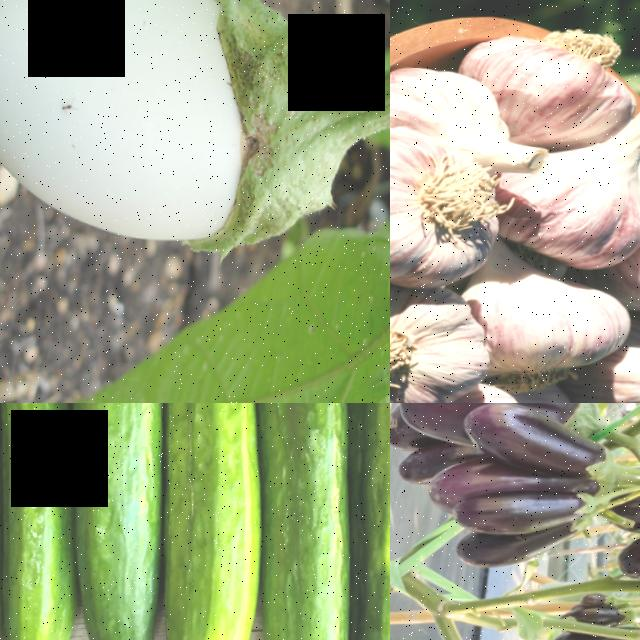cucumber: (249, 403, 365, 640), (153, 403, 266, 640), (69, 403, 169, 640), (0, 403, 85, 640), (341, 403, 390, 640)
eggplant: (0, 0, 342, 270), (487, 416, 620, 486), (452, 490, 594, 540), (449, 532, 574, 578)
garlic: (476, 280, 636, 387), (390, 140, 496, 295), (495, 164, 640, 277), (502, 33, 629, 146), (390, 301, 483, 403)
